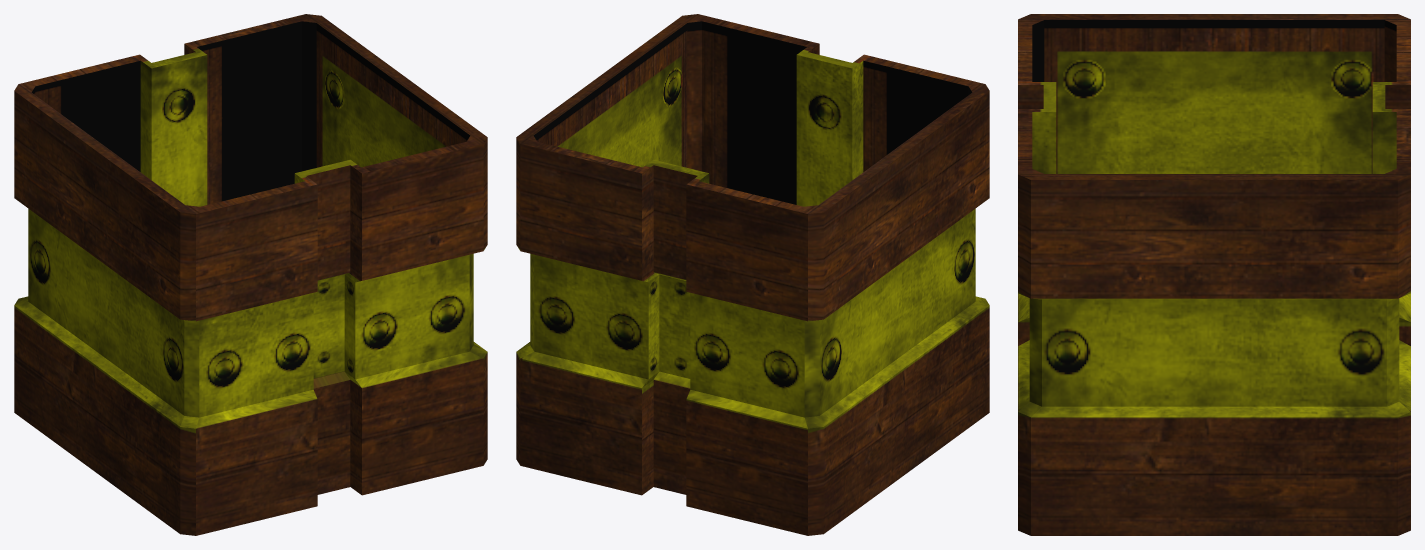
The model's file is Chest_Dark_Bottom.fbx.
3 views of the same model, side by side, from view 1: azimuth 30°, elevation 25°; view 2: azimuth 150°, elevation 25°; view 3: azimuth 270°, elevation 25° (orthographic). The views are drawn at different scales.
Parts seen in each view (by area): view 1: Chest_Dark_Bottom; view 2: Chest_Dark_Bottom; view 3: Chest_Dark_Bottom.
Part boxes in pixels (x1,y1,x2,y2): Chest_Dark_Bottom: (14, 14, 487, 535); Chest_Dark_Bottom: (516, 14, 989, 535); Chest_Dark_Bottom: (1018, 14, 1410, 535).
Bounding box in the file's own units: 100 × 100 × 100.
